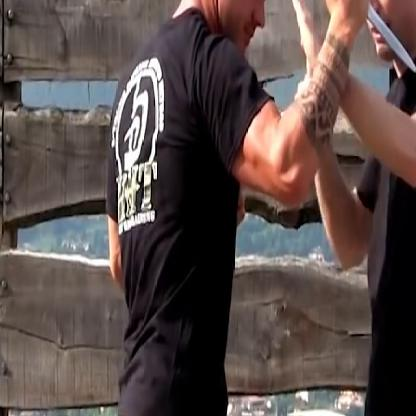knife: (316, 0, 416, 79)
